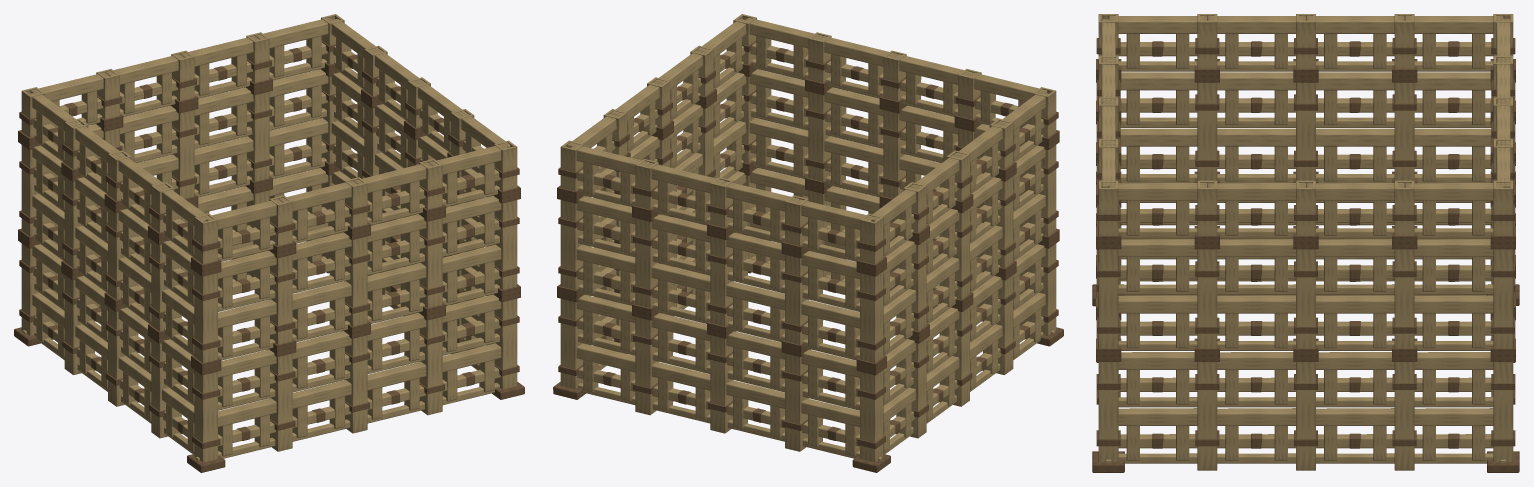
The picture shows the model from 3 angles, left to right: view 1: azimuth 30°, elevation 25°; view 2: azimuth 150°, elevation 25°; view 3: azimuth 270°, elevation 25°; orthographic projection. The views are drawn at different scales.
Visible parts, largest first — view 1: Tier 0 side 0 post 0, Tier 1 side 0 post 0, Tier 0 side 0 post 3, Tier 0 side 0 post 2, Tier 0 side 0 post 1, Tier 0 side 1 post 0, Tier 1 side 1 post 0, Tier 1 side 0 post 3, Tier 1 side 2 post 1, Tier 1 side 0 post 2, Tier 1 side 0 post 1, Tier 1 side 2 post 2 (+80 smaller); view 2: Tier 0 side 3 post 0, Tier 1 side 3 post 0, Tier 0 side 2 post 1, Tier 0 side 2 post 2, Tier 0 side 2 post 3, Tier 0 side 2 post 0, Tier 1 side 2 post 0, Tier 1 side 2 post 1, Tier 1 side 0 post 3, Tier 1 side 2 post 3, Tier 1 side 2 post 2, Tier 1 side 0 post 2 (+79 smaller); view 3: Tier 0 side 1 post 1, Tier 0 side 1 post 3, Tier 0 side 1 post 2, Tier 1 side 1 post 0, Tier 1 side 1 post 1, Tier 1 side 1 post 3, Tier 1 side 2 post 0, Tier 0 side 1 post 0, Tier 0 side 2 post 0, Tier 1 side 3 post 1, Tier 1 side 3 post 3, Tier 1 side 1 post 2 (+179 smaller).
Boxes of the visible parts, bbox=[...] form: Tier 0 side 0 post 0: bbox=[194, 370, 217, 462]; Tier 1 side 0 post 0: bbox=[194, 271, 217, 362]; Tier 0 side 0 post 3: bbox=[419, 317, 442, 415]; Tier 0 side 0 post 2: bbox=[345, 335, 367, 433]; Tier 0 side 0 post 1: bbox=[270, 353, 292, 451]; Tier 0 side 1 post 0: bbox=[494, 298, 517, 389]; Tier 1 side 1 post 0: bbox=[494, 200, 517, 289]; Tier 1 side 0 post 3: bbox=[419, 218, 442, 308]; Tier 1 side 2 post 1: bbox=[247, 91, 269, 181]; Tier 1 side 0 post 2: bbox=[345, 236, 367, 326]; Tier 1 side 0 post 1: bbox=[270, 254, 292, 344]; Tier 1 side 2 post 2: bbox=[172, 110, 194, 198]; Tier 0 side 3 post 0: bbox=[860, 370, 883, 462]; Tier 1 side 3 post 0: bbox=[860, 271, 883, 362]; Tier 0 side 2 post 1: bbox=[635, 317, 658, 415]; Tier 0 side 2 post 2: bbox=[710, 335, 733, 433]; Tier 0 side 2 post 3: bbox=[785, 353, 808, 451]; Tier 0 side 2 post 0: bbox=[560, 298, 583, 389]; Tier 1 side 2 post 0: bbox=[560, 200, 583, 289]; Tier 1 side 2 post 1: bbox=[635, 218, 658, 308]; Tier 1 side 0 post 3: bbox=[808, 91, 830, 181]; Tier 1 side 2 post 3: bbox=[785, 254, 808, 344]; Tier 1 side 2 post 2: bbox=[710, 236, 733, 326]; Tier 1 side 0 post 2: bbox=[883, 110, 905, 198]; Tier 0 side 1 post 1: bbox=[1197, 362, 1217, 470]; Tier 0 side 1 post 3: bbox=[1394, 362, 1414, 470]; Tier 0 side 1 post 2: bbox=[1296, 362, 1315, 470]; Tier 1 side 1 post 0: bbox=[1098, 249, 1118, 348]; Tier 1 side 1 post 1: bbox=[1197, 249, 1217, 348]; Tier 1 side 1 post 3: bbox=[1394, 249, 1414, 348]; Tier 1 side 2 post 0: bbox=[1493, 249, 1513, 348]; Tier 0 side 1 post 0: bbox=[1098, 362, 1118, 461]; Tier 0 side 2 post 0: bbox=[1493, 362, 1513, 461]; Tier 1 side 3 post 1: bbox=[1394, 82, 1414, 180]; Tier 1 side 3 post 3: bbox=[1197, 82, 1217, 180]; Tier 1 side 1 post 2: bbox=[1296, 249, 1315, 348].
Bounding box in the file's own units: 1.95 × 1.42 × 1.95.
2 materials, 2 textured.
